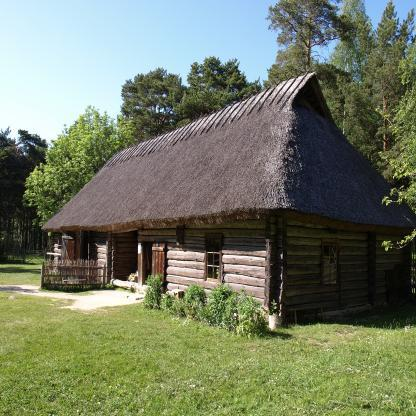Building Outline: (41, 68, 416, 330)
Dont: (140, 272, 272, 340), (40, 258, 106, 291)
Door: (142, 241, 153, 288), (79, 231, 89, 271)
Door Hole: (112, 230, 138, 283)
Facade: (49, 215, 278, 330)
Ground Floor: (49, 215, 278, 330)
Roof: (41, 68, 416, 235)
Window: (204, 234, 222, 284)
